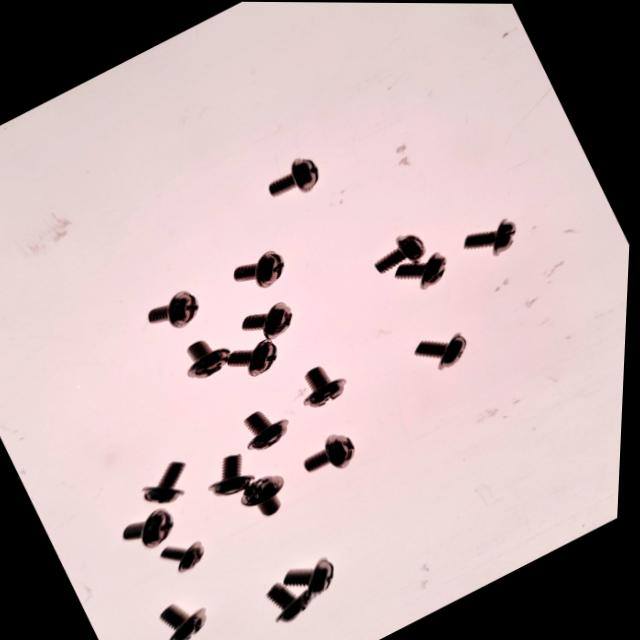Screws: (270, 556, 343, 628), (369, 232, 446, 287), (186, 337, 279, 379), (243, 301, 296, 374), (416, 329, 473, 376), (142, 458, 196, 507), (265, 156, 324, 200), (304, 432, 363, 475), (233, 248, 290, 290), (147, 289, 205, 330), (240, 474, 292, 519), (303, 363, 351, 411), (246, 410, 294, 453), (465, 216, 522, 252), (214, 453, 258, 497), (161, 603, 213, 640), (163, 539, 211, 575)
